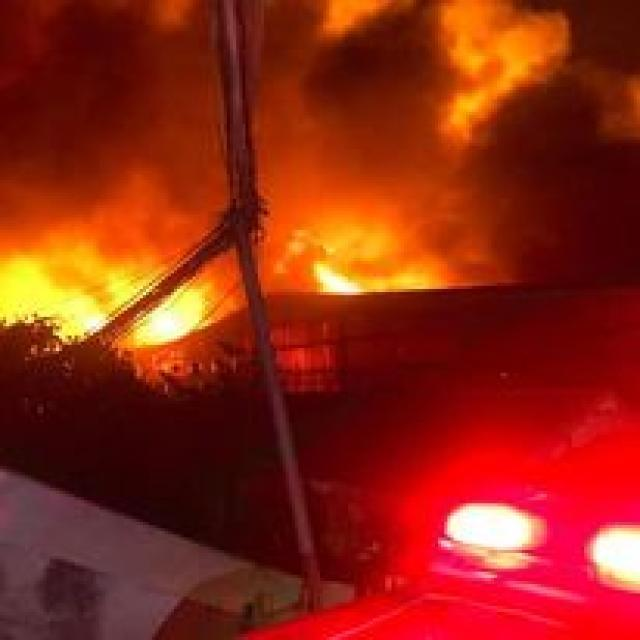Fire: (2, 256, 222, 358), (294, 247, 378, 310)
Smoke: (0, 0, 640, 215)
